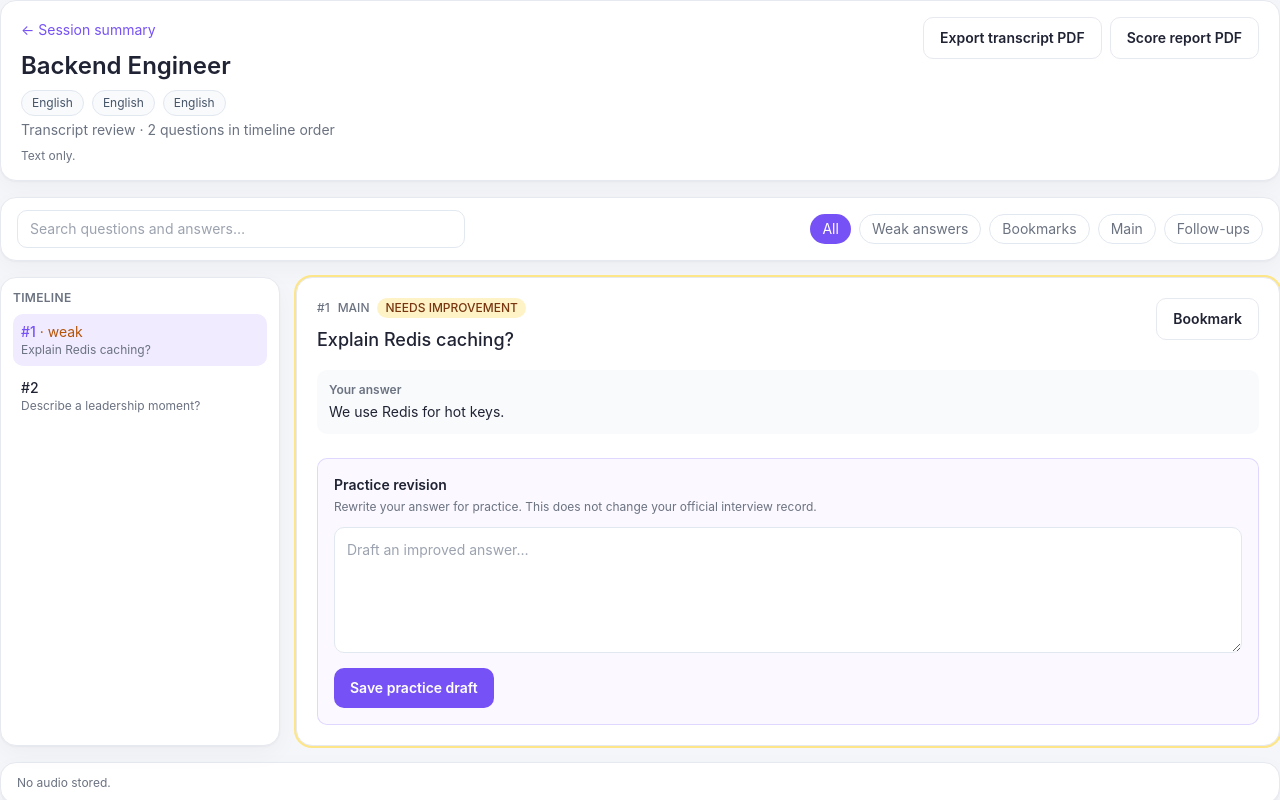
it: InterviewTranscriptReviewView › filters items by search query
Check: the text "Describe a leadership moment?" is shown, box [21,398,200,413]
Type "Redis" into the search field named "search transcript". click: (241, 229)
box: [17,210,465,248]
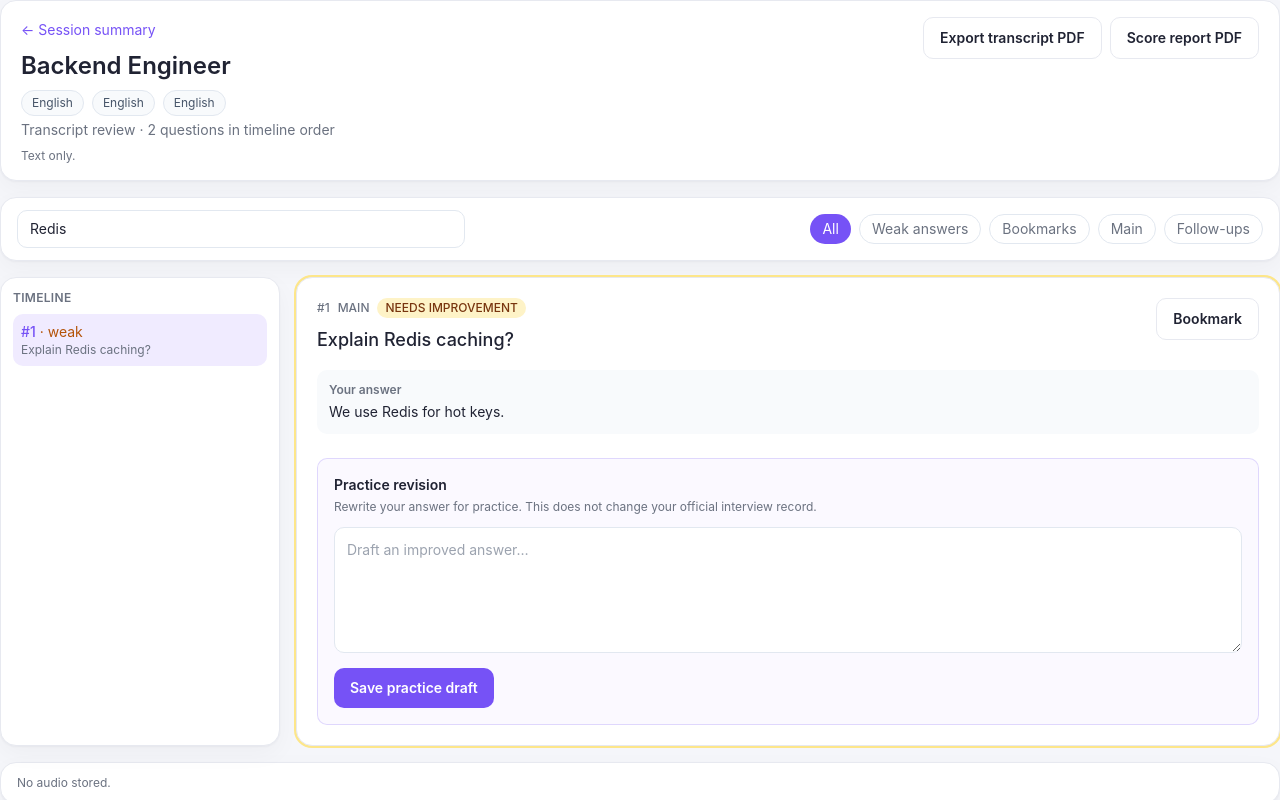
Check: the text "Explain Redis caching?" is shown, box [21,342,151,357]
Check: the button "leadership moment" is gone
